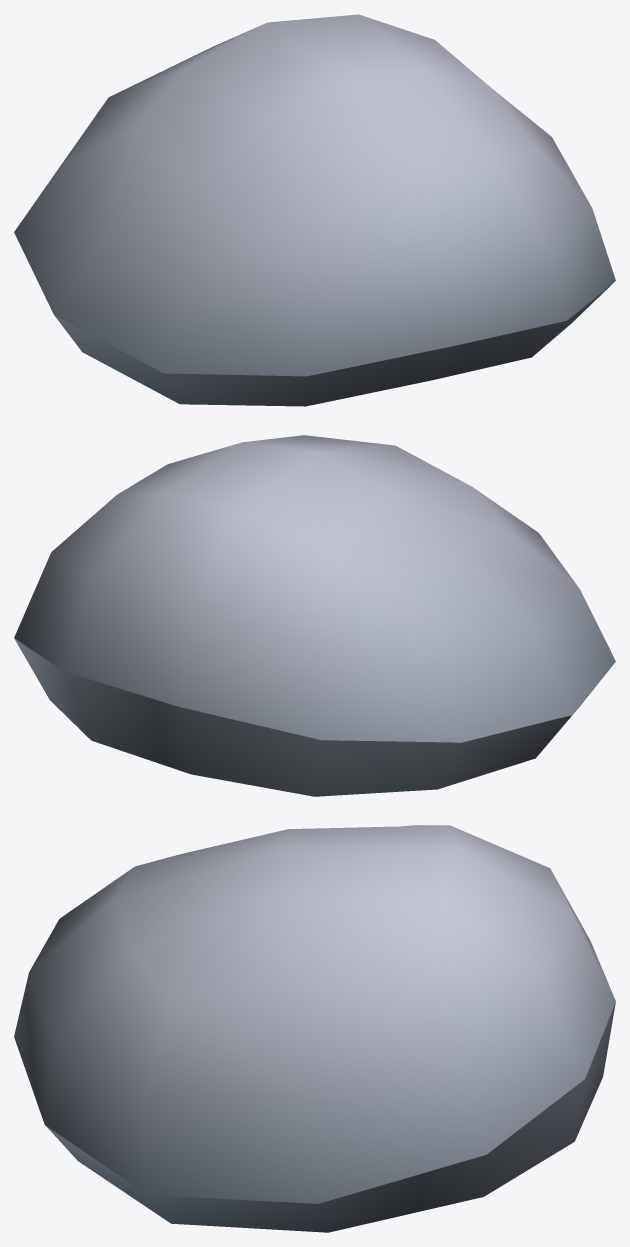
The model's file is snow_3.glb.
The picture shows the model from 3 angles, top to bottom: view 1: azimuth 30°, elevation 25°; view 2: azimuth 150°, elevation 25°; view 3: azimuth 270°, elevation 25°; orthographic projection. The views are drawn at different scales.
Visible parts, largest first — view 1: snow_3; view 2: snow_3; view 3: snow_3.
Part boxes in pixels (x1,y1,x2,y2): snow_3: [14, 14, 615, 406]; snow_3: [14, 435, 615, 796]; snow_3: [14, 825, 615, 1232].
Bounding box in the file's own units: 3.64 × 1.73 × 3.27.
Materials: 1 (1 with a texture image).
